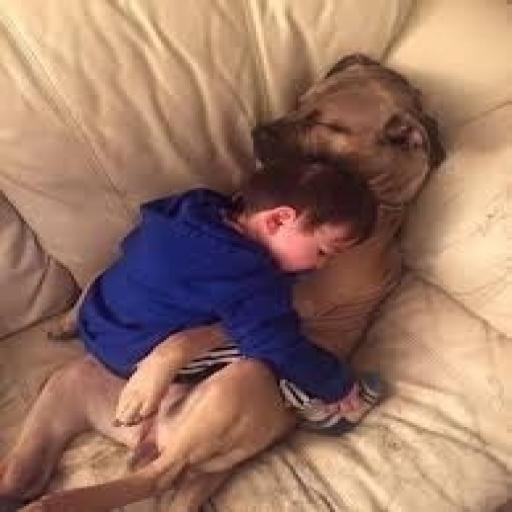sleeping: (0, 154, 385, 510)
